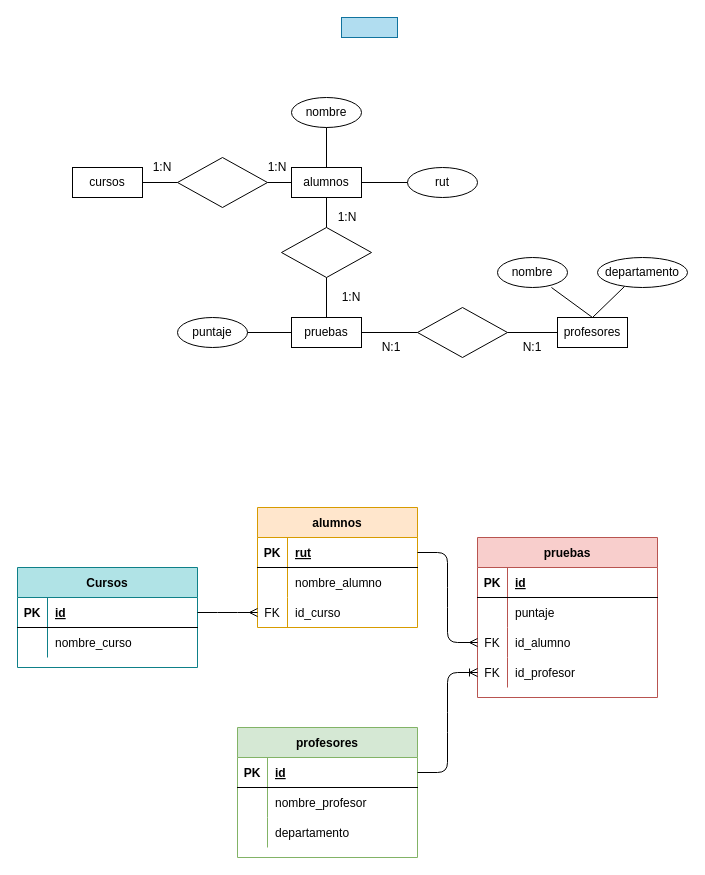
This 705x875 diagram has some shape labels left out. Here are the shapes that lost their labels. From the top down, the centre of each, then its label:
At (x=369, y=27): "Caso 2".
At (x=222, y=182): "pertenece".
At (x=326, y=252): "realiza".
At (x=462, y=332): "evalúa".
